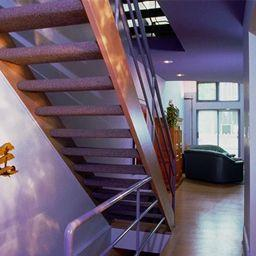Escaleras: (4, 16, 178, 232), (3, 183, 155, 252)
